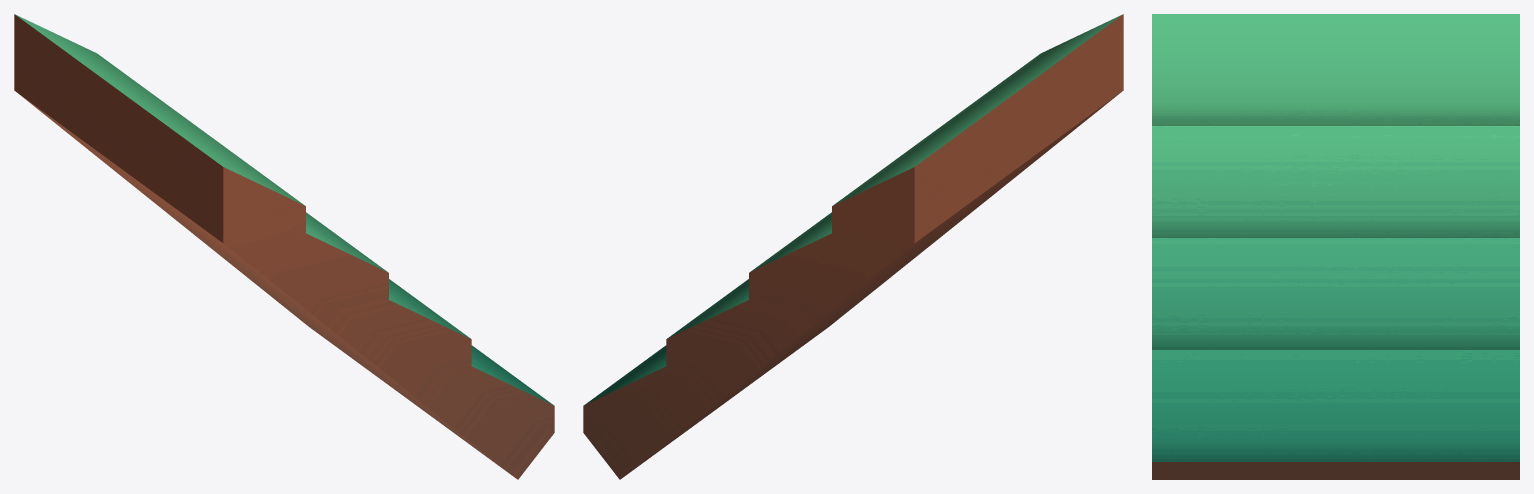
The model's file is hk_cabin-roof.glb.
The picture shows the model from 3 angles, left to right: view 1: azimuth 30°, elevation 25°; view 2: azimuth 150°, elevation 25°; view 3: azimuth 270°, elevation 25°; orthographic projection. The views are drawn at different scales.
Parts seen in each view (by area): view 1: cabin-roof; view 2: cabin-roof; view 3: cabin-roof.
Part boxes in pixels (x1,y1,x2,y2): cabin-roof: (14,14,554,479); cabin-roof: (583,14,1123,479); cabin-roof: (1152,14,1519,479).
Bounding box in the file's own units: 1.28 × 1.42 × 1.4.
1 material, 1 textured.
